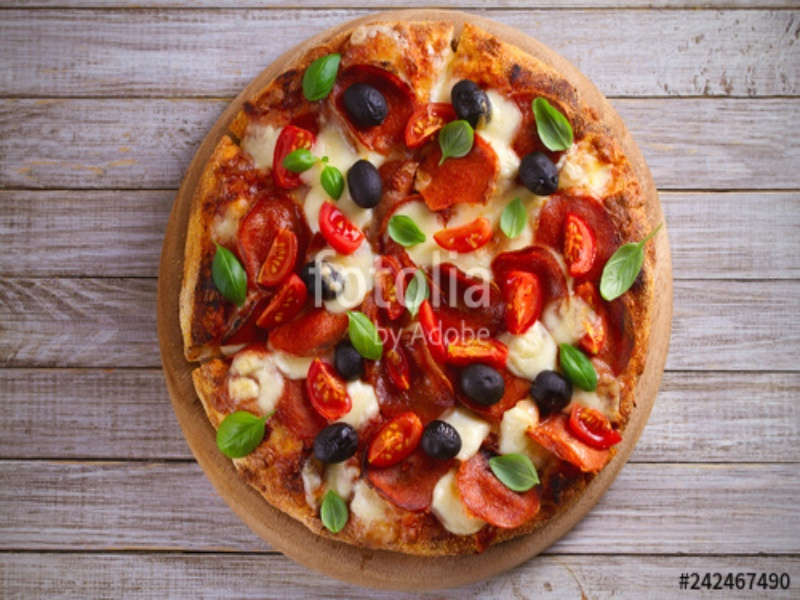olive noir: (337, 82, 388, 134), (309, 421, 359, 467), (341, 158, 385, 208), (456, 361, 507, 404), (449, 79, 492, 126), (516, 153, 563, 196), (418, 418, 465, 460), (532, 368, 571, 412), (331, 335, 365, 380)
